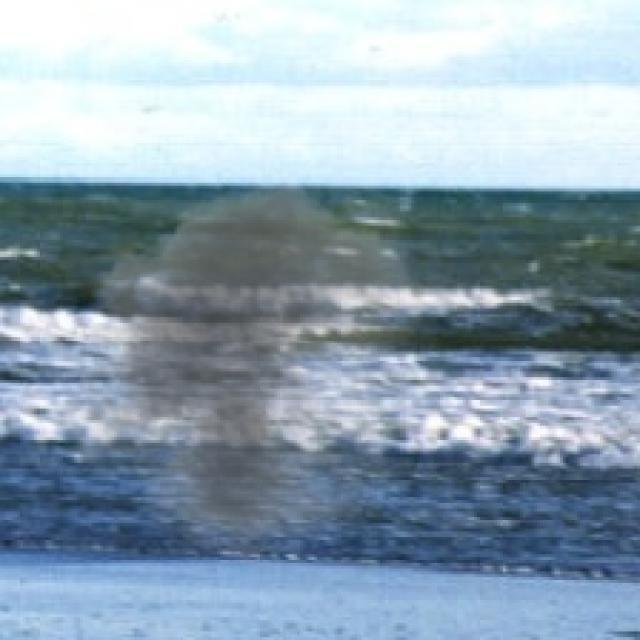Smoke: (52, 157, 474, 566)
